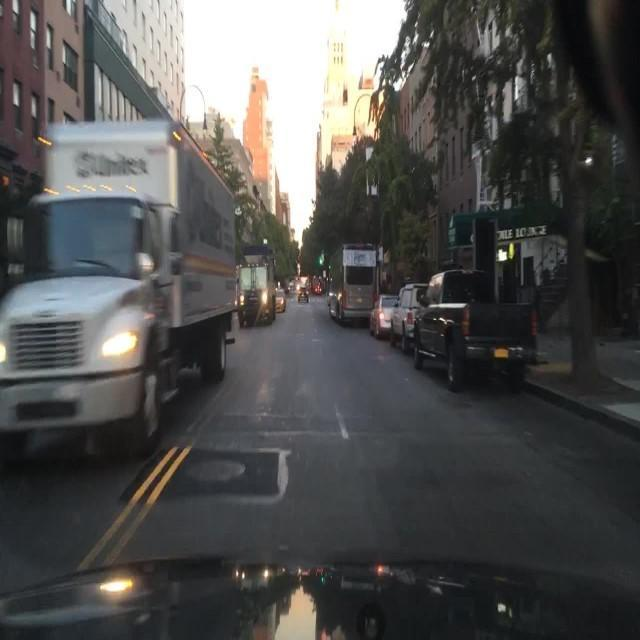normal: (0, 86, 259, 519), (328, 243, 382, 325), (394, 281, 430, 346), (370, 294, 402, 339)
